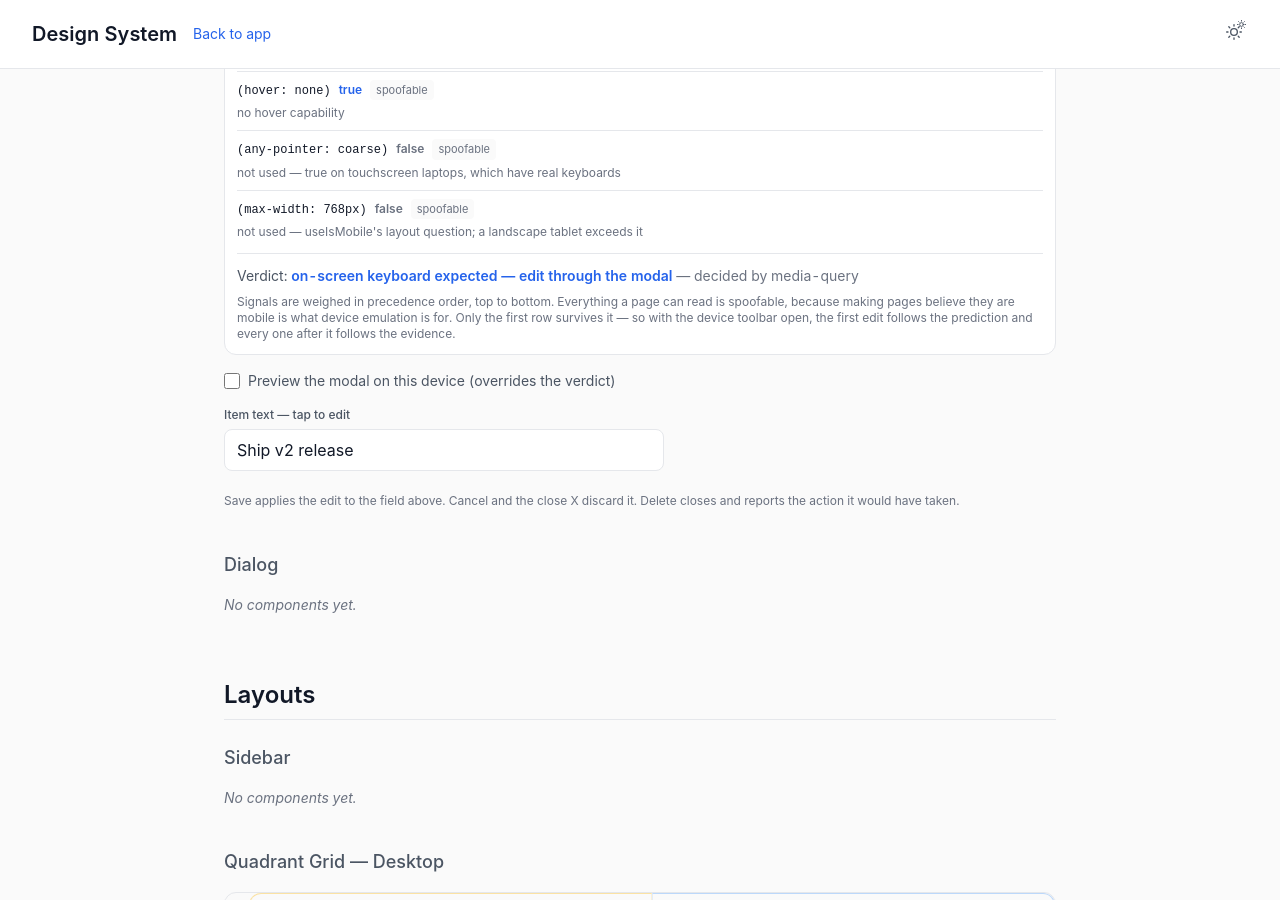
Test case: DesignSystem — Edit Modal gated on on-screen-keyboard detection › closes via the X, discarding the edit
(page scrolled)
Click the field labelled "Item text — tap to edit" at (444, 450), box [224, 429, 664, 471]
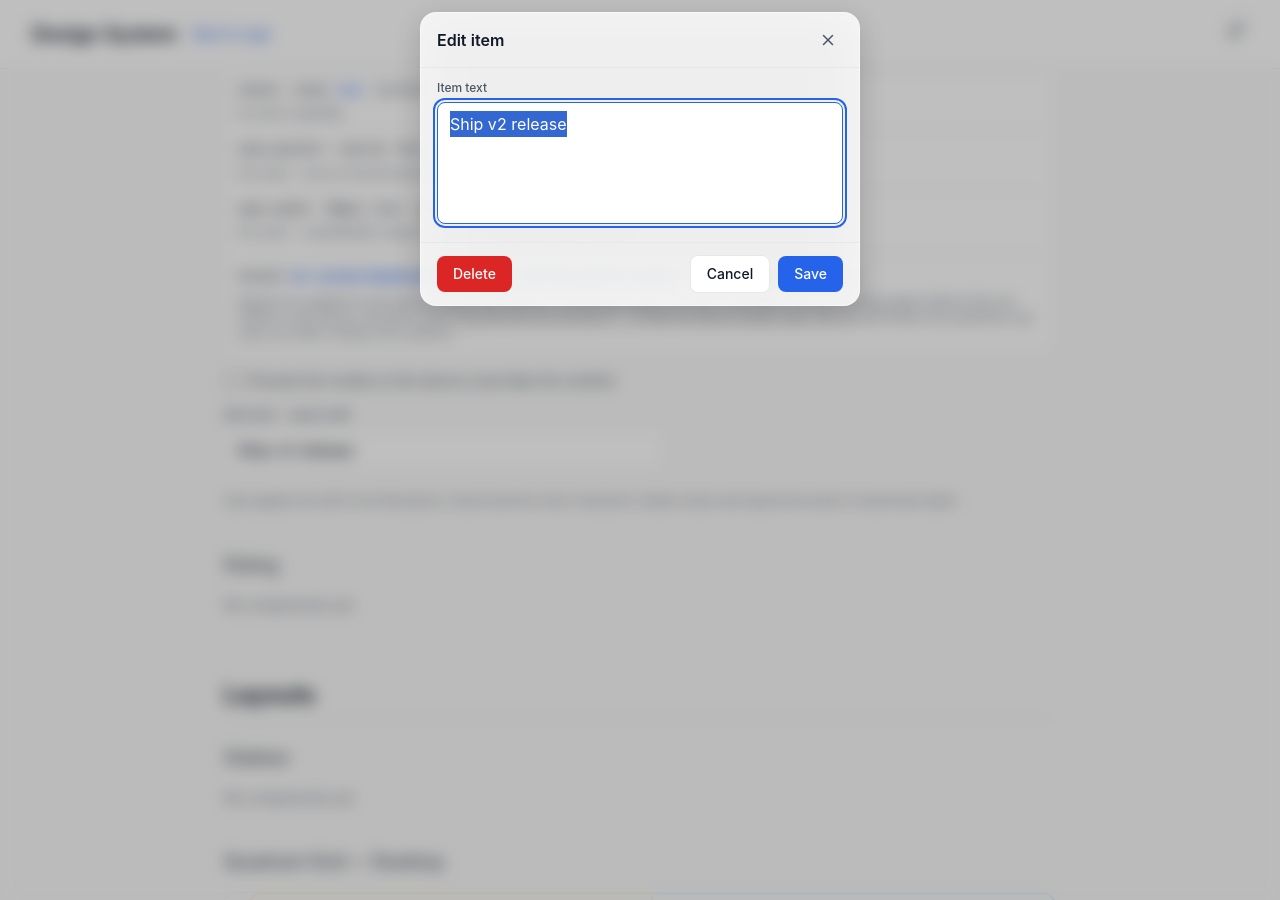
Click the button named "Close Edit item" at (828, 40), box [813, 25, 843, 55]
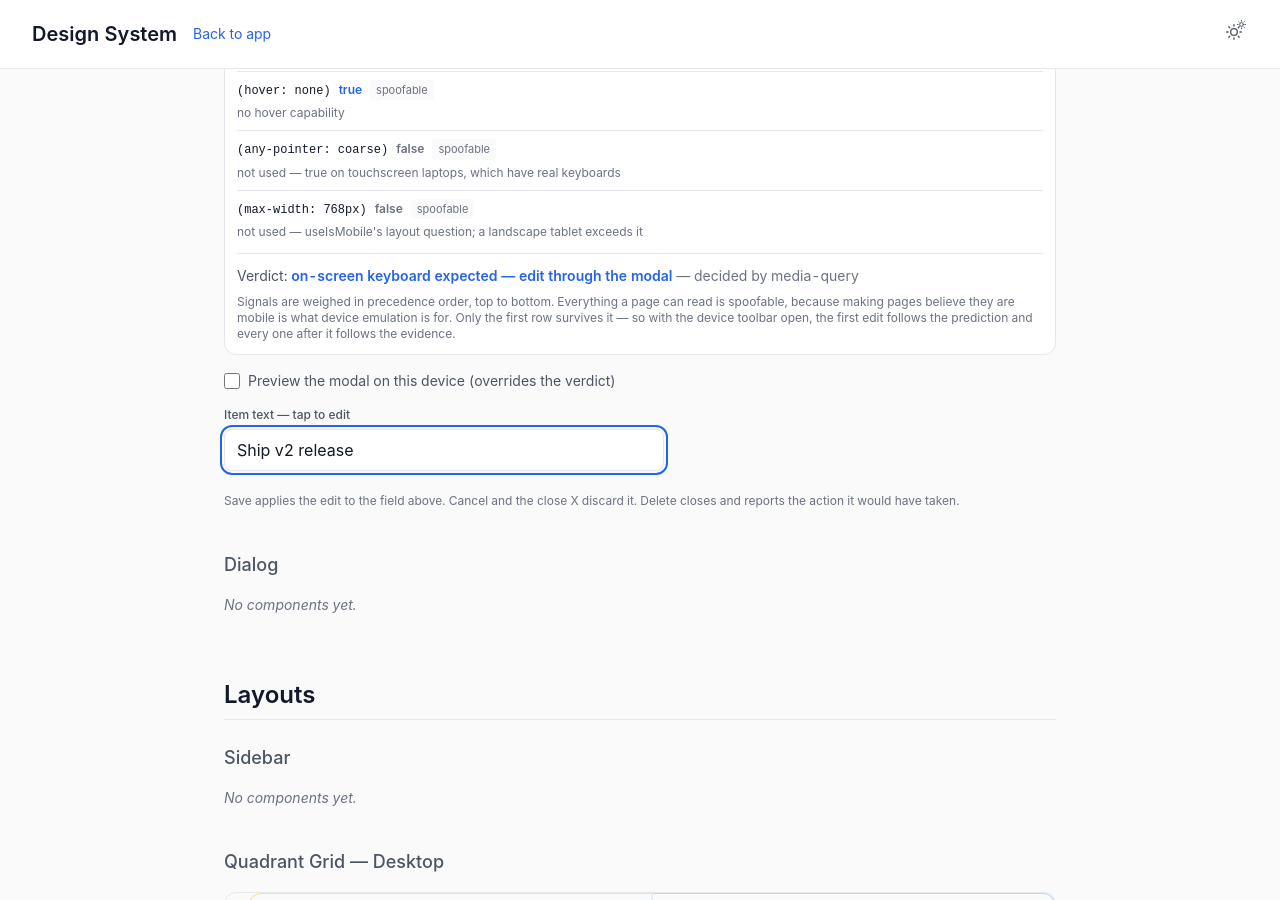
Expected: the field labelled "Item text — tap to edit" holds "Ship v2 release", [224, 429, 664, 471]
Result: the dialog is gone
